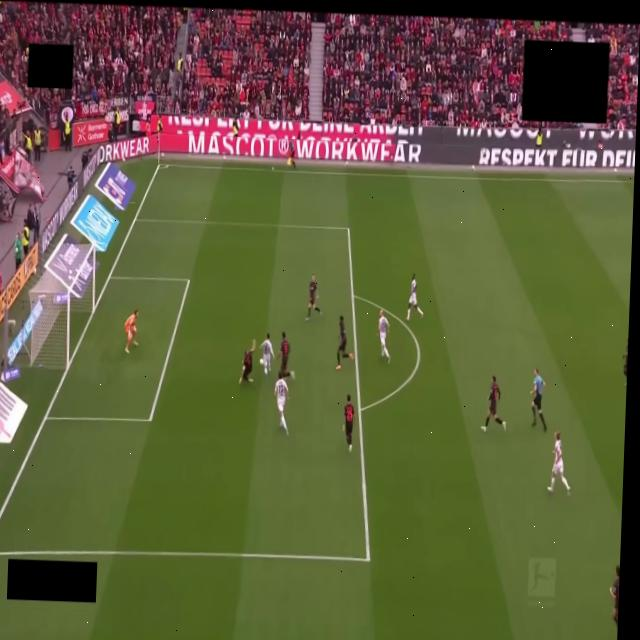ball: (260, 359, 264, 366)
player: (548, 431, 570, 494), (481, 377, 506, 432), (336, 316, 353, 370), (275, 373, 289, 435), (277, 332, 295, 378), (239, 340, 256, 384), (407, 274, 423, 320), (306, 275, 321, 321), (378, 311, 389, 363), (344, 395, 354, 452), (125, 310, 138, 353), (261, 333, 272, 374), (623, 341, 627, 385), (232, 120, 239, 138)
referee: (531, 369, 546, 431), (288, 141, 295, 168)
